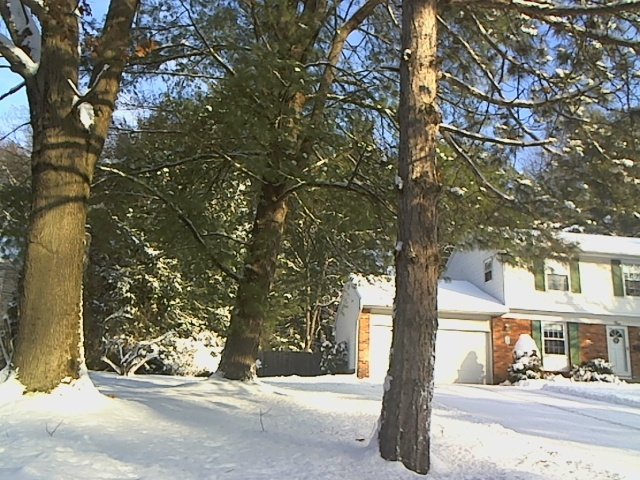Unploughed: (453, 376, 627, 465)
